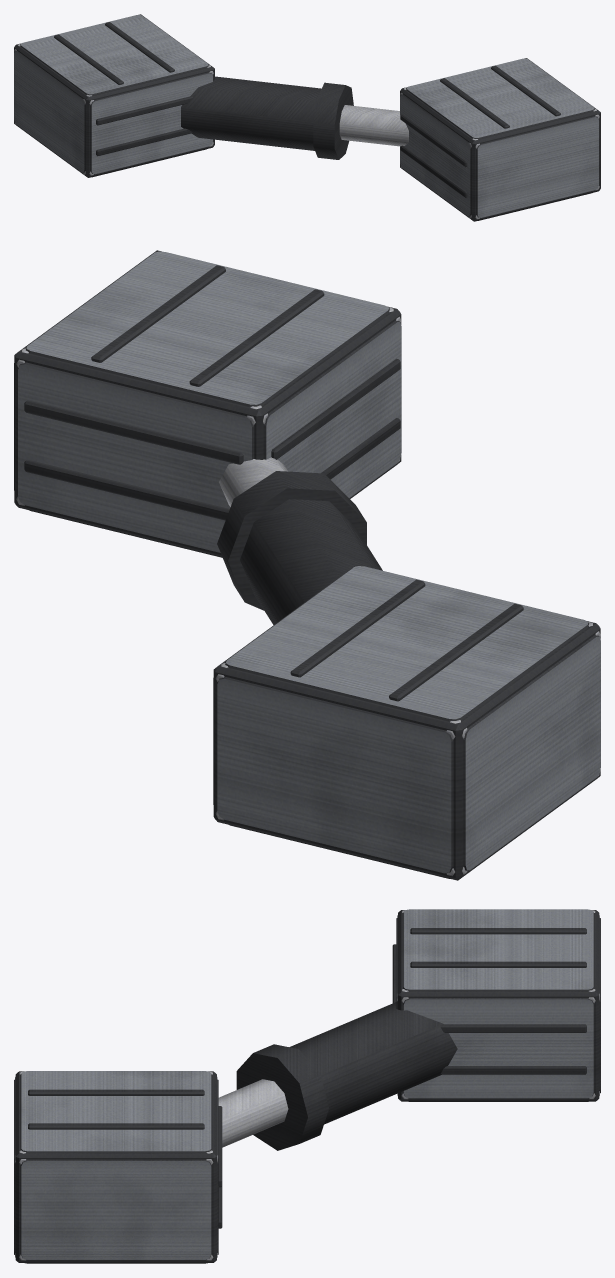
File: R4C_ROD_DIAG_2D_SHORT.glb
The picture shows the model from 3 angles, top to bottom: view 1: azimuth 30°, elevation 25°; view 2: azimuth 150°, elevation 25°; view 3: azimuth 270°, elevation 25°; orthographic projection. The views are drawn at different scales.
Parts seen in each view (by area): view 1: R4C_ROD_DIAG_2D_SHORT; view 2: R4C_ROD_DIAG_2D_SHORT; view 3: R4C_ROD_DIAG_2D_SHORT.
Part boxes in pixels (x1,y1,x2,y2): R4C_ROD_DIAG_2D_SHORT: (14, 14, 600, 221); R4C_ROD_DIAG_2D_SHORT: (14, 250, 600, 880); R4C_ROD_DIAG_2D_SHORT: (14, 909, 600, 1263).
Bounding box in the file's own units: 1.07 × 0.233 × 1.07.
4 materials, 4 textured.
